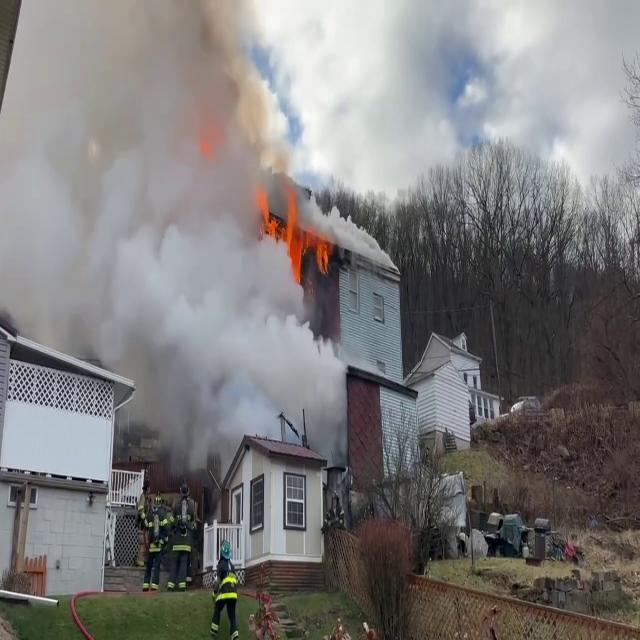Fire: (258, 186, 336, 282)
Smoke: (0, 0, 344, 451)
